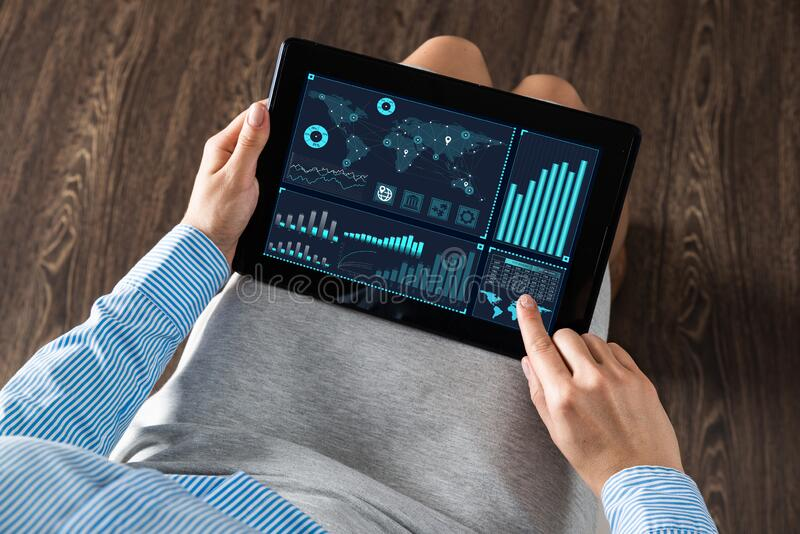Cell Phone: (231, 34, 646, 376)
